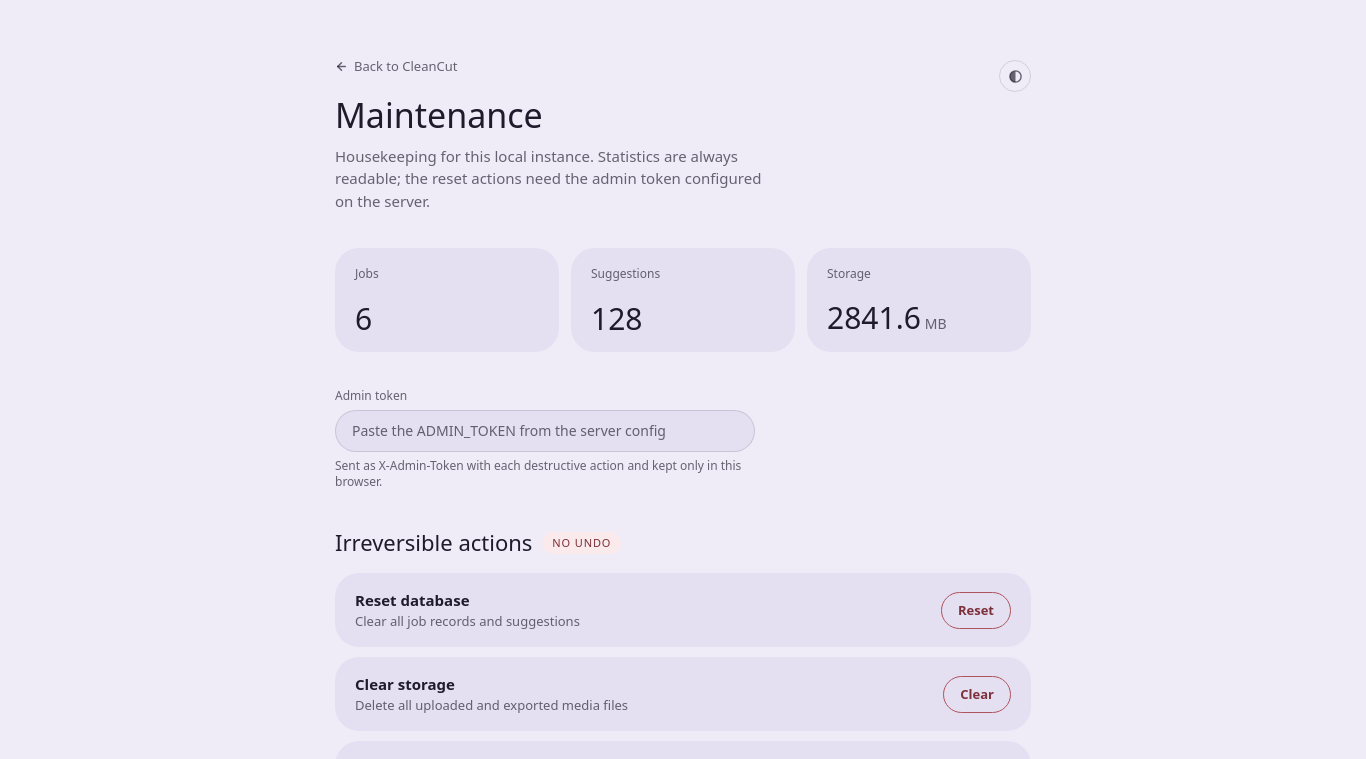
running an action › reports the server's message on the row that caused it
Click the button "Reset": click(976, 610) [941,592,1011,629]
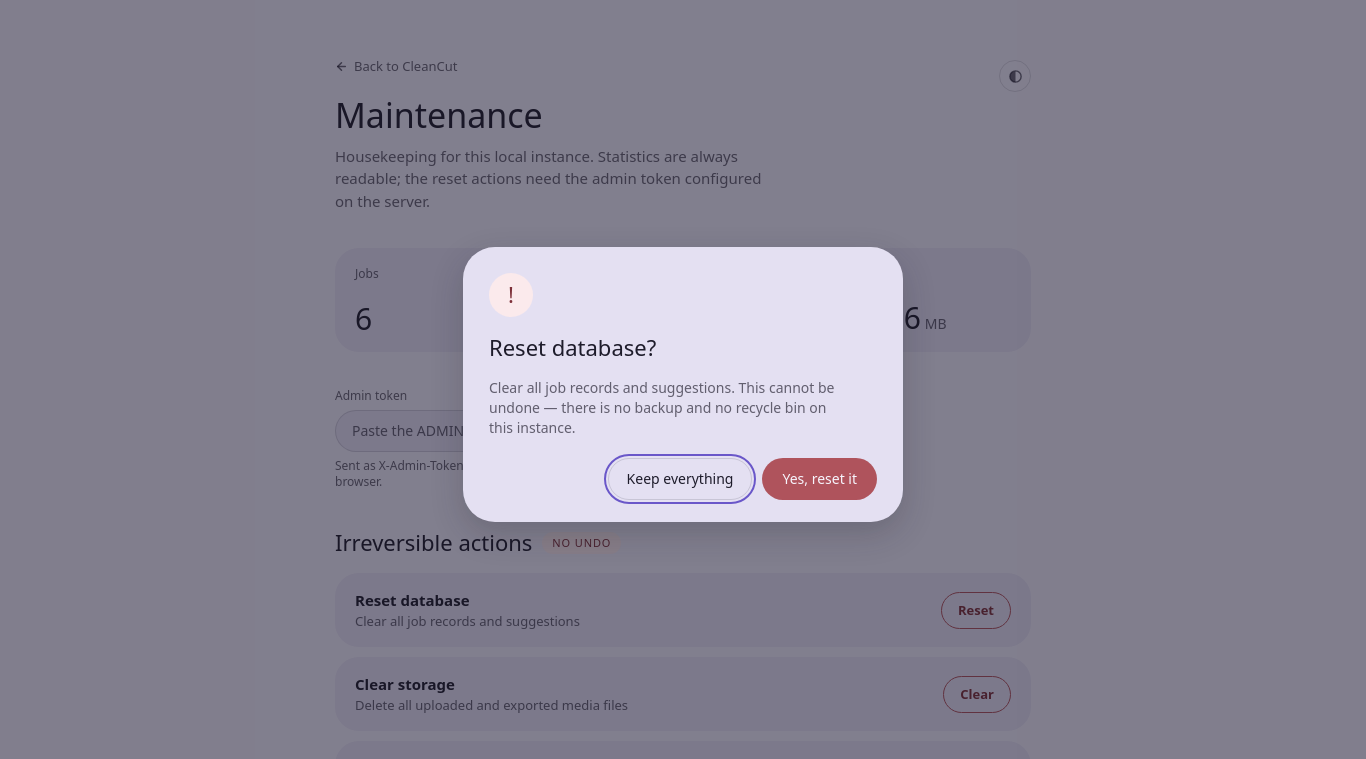
Click the button "Yes, reset it": click(820, 478) [762,458,877,500]
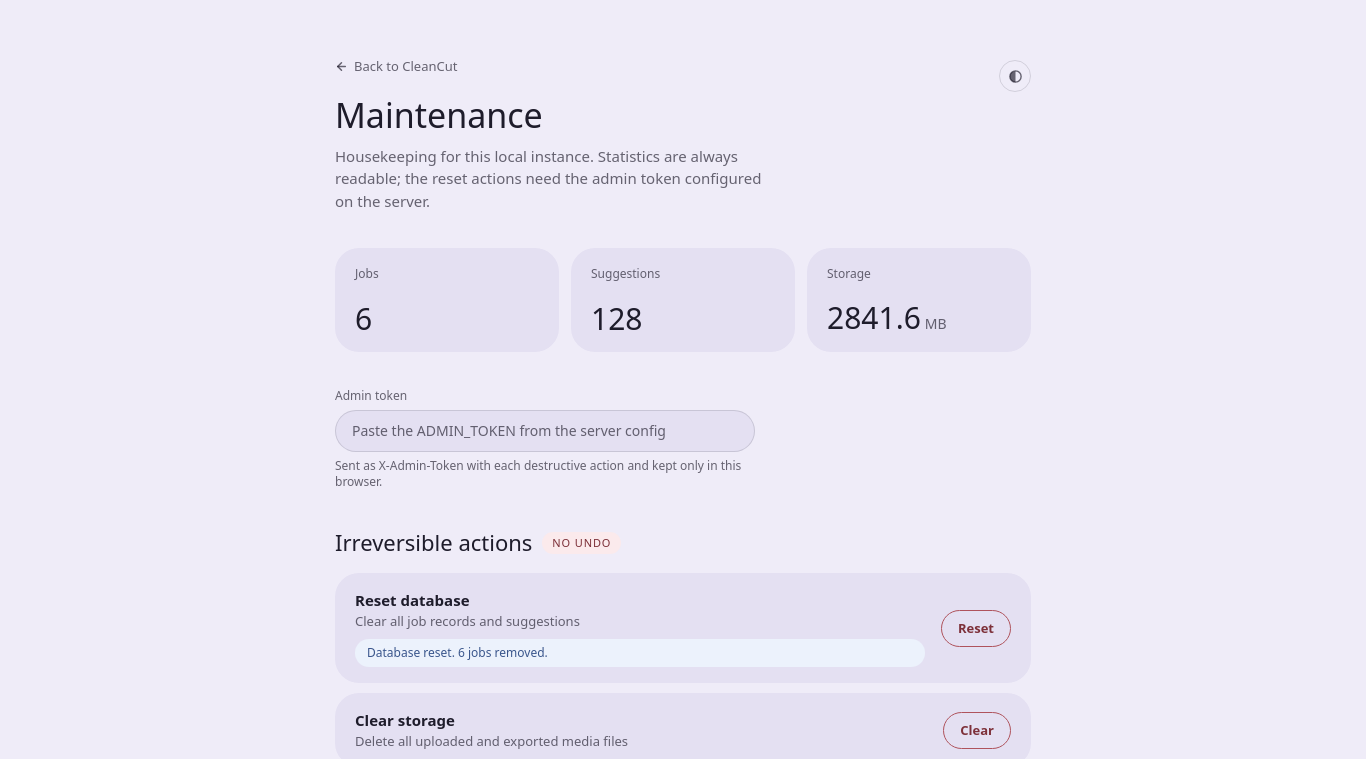
Expected: the text "Database reset. 6 jobs removed." is shown, [355,639,925,667]
